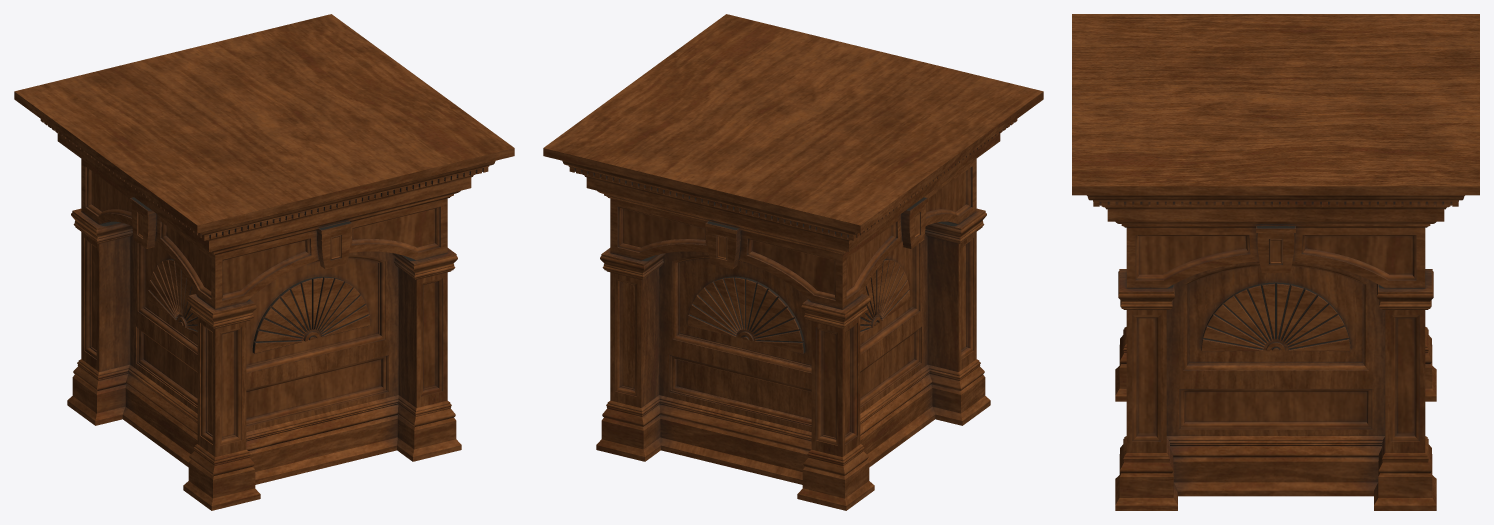
Rendered from fancy_table.glb.
3 renders of one model, left to right at view 1: azimuth 30°, elevation 25°; view 2: azimuth 150°, elevation 25°; view 3: azimuth 270°, elevation 25°, orthographic. The views are drawn at different scales.
Parts seen in each view (by area): view 1: Fancy Table_0; view 2: Fancy Table_0; view 3: Fancy Table_0.
Boxes of the visible parts, box(x1,y1,x2,y2) form: Fancy Table_0: box(14, 14, 514, 510); Fancy Table_0: box(543, 14, 1043, 510); Fancy Table_0: box(1072, 14, 1479, 510).
Size of the model in its own units: 1 by 0.9272 by 1.
Materials: 1 (1 with a texture image).
